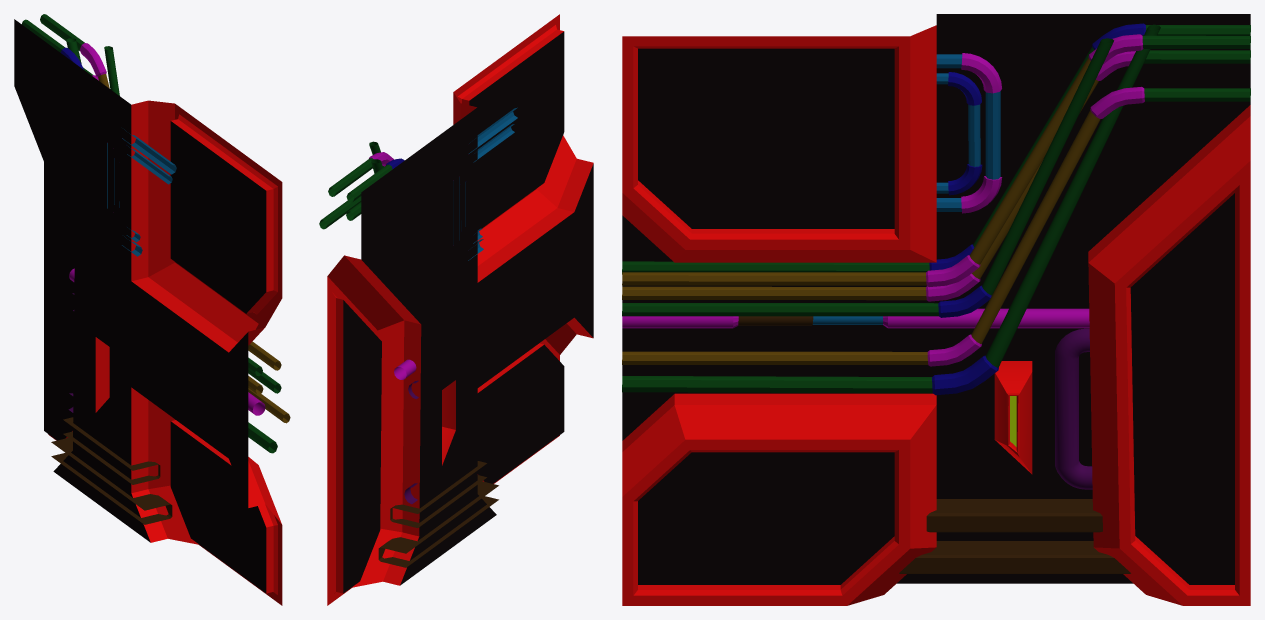
File: OBJ_2_Mur.fbx
The picture shows the model from 3 angles, left to right: view 1: azimuth 30°, elevation 25°; view 2: azimuth 150°, elevation 25°; view 3: azimuth 270°, elevation 25°; orthographic projection. The views are drawn at different scales.
Visible parts, largest first — view 1: OBJ_2_Mur; view 2: OBJ_2_Mur; view 3: OBJ_2_Mur.
Boxes of the visible parts, x1,y1,x2,y2 form: OBJ_2_Mur: [14, 14, 290, 605]; OBJ_2_Mur: [319, 14, 593, 605]; OBJ_2_Mur: [622, 14, 1250, 605].
Bounding box in the file's own units: 146 × 1200 × 1200.
